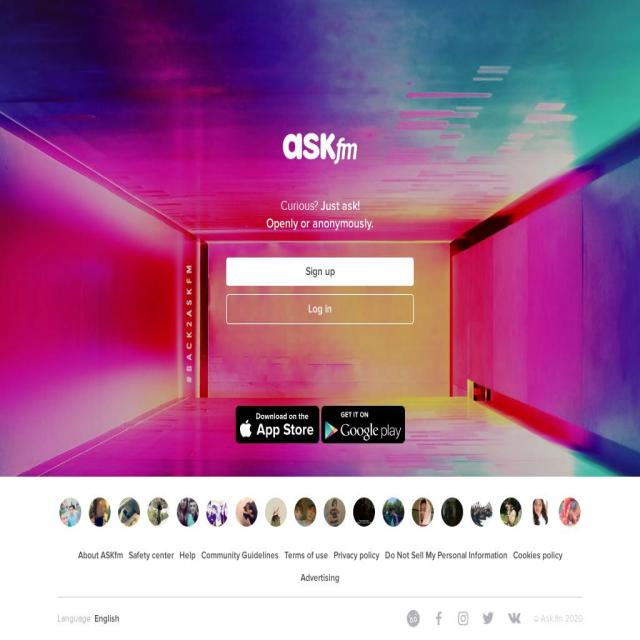button: (226, 256, 414, 286), (226, 294, 414, 324), (384, 548, 508, 564), (200, 548, 278, 564), (94, 597, 119, 640), (512, 548, 562, 564), (128, 548, 174, 564), (333, 548, 379, 564), (78, 548, 123, 564), (284, 548, 328, 564), (300, 570, 340, 587), (326, 530, 349, 559), (59, 498, 82, 526), (235, 498, 258, 526), (297, 530, 319, 559), (88, 498, 110, 526), (118, 498, 140, 526), (148, 498, 170, 526), (177, 498, 199, 526), (206, 498, 228, 526), (265, 498, 287, 526), (294, 498, 316, 526), (324, 498, 346, 526), (353, 498, 375, 526), (382, 498, 404, 526), (412, 498, 434, 526), (441, 498, 463, 526), (470, 498, 492, 526), (500, 498, 522, 526), (530, 498, 552, 526), (558, 498, 580, 526), (178, 548, 196, 564)
image: (235, 406, 319, 443), (321, 406, 405, 443), (282, 133, 358, 164)
text: (533, 597, 582, 640), (266, 214, 374, 233), (320, 197, 360, 215), (280, 197, 321, 214), (58, 613, 94, 625)
